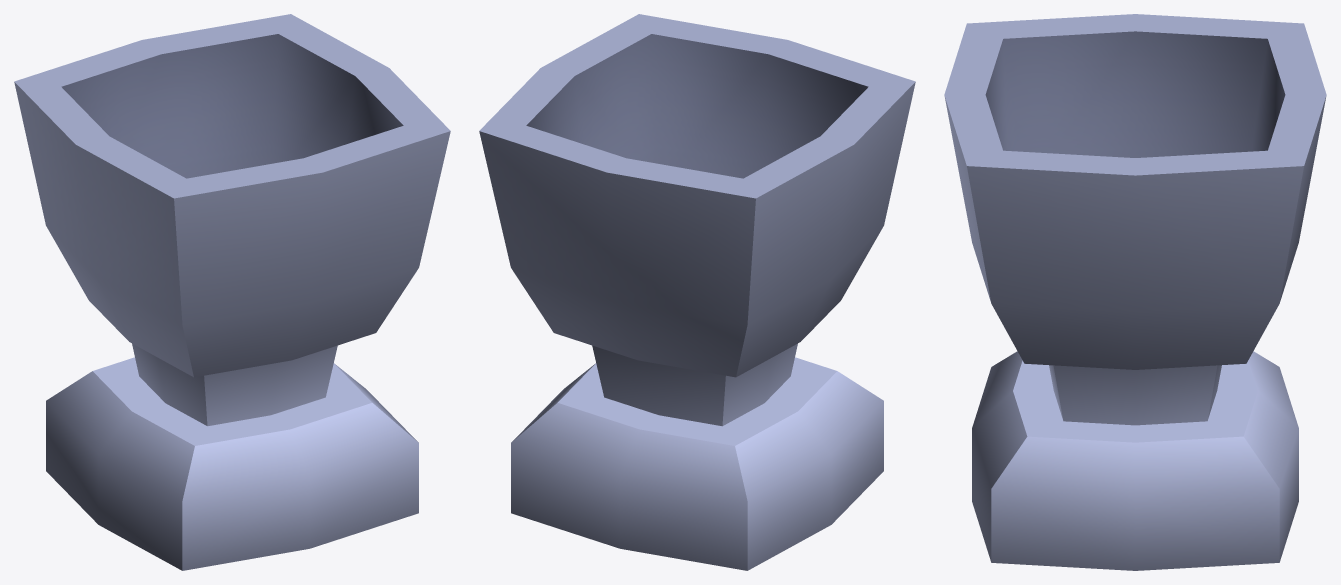
The model's file is urn-square_lev2.glb.
3 views of the same model, side by side, from view 1: azimuth 30°, elevation 25°; view 2: azimuth 150°, elevation 25°; view 3: azimuth 270°, elevation 25° (orthographic). The views are drawn at different scales.
Visible parts, largest first — view 1: urn-square_lev2; view 2: urn-square_lev2; view 3: urn-square_lev2.
Part boxes in pixels (x1,y1,x2,y2): urn-square_lev2: [14, 14, 450, 570]; urn-square_lev2: [479, 14, 915, 570]; urn-square_lev2: [944, 14, 1326, 570].
Size of the model in its own units: 0.234 by 0.275 by 0.234.
1 material, 1 textured.
